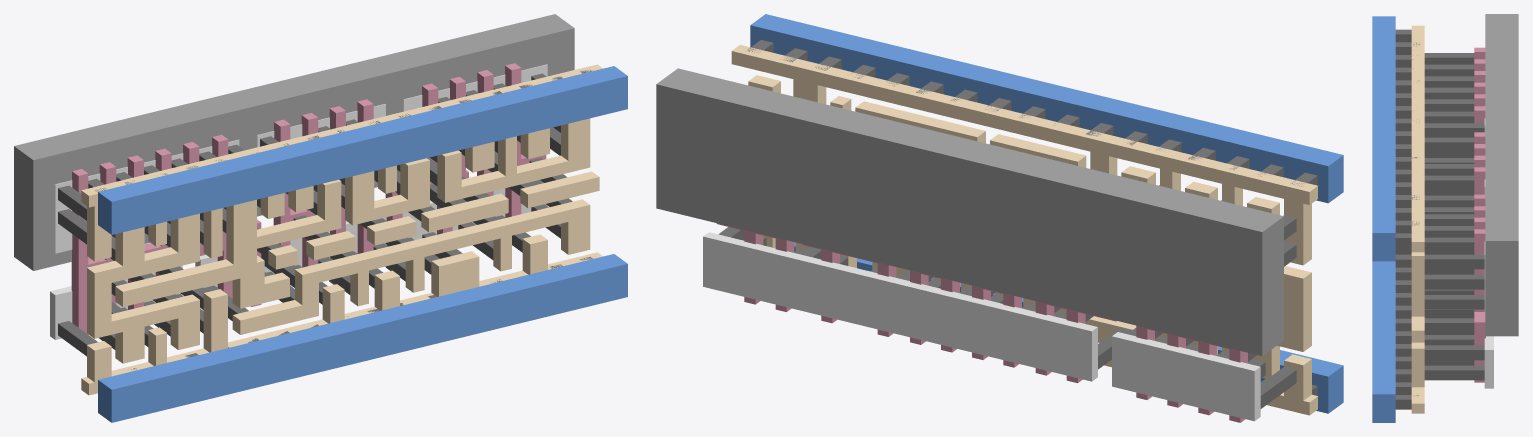
File: sky130_fd_sc_hd__o41a_4.gds.gltf
3 renders of one model, left to right at view 1: azimuth 30°, elevation 25°; view 2: azimuth 150°, elevation 25°; view 3: azimuth 270°, elevation 25°, orthographic. The views are drawn at different scales.
Parts seen in each view (by area): view 1: sky130_fd_sc_hd__o41a_4_li1, sky130_fd_sc_hd__o41a_4_met1, sky130_fd_sc_hd__o41a_4_nwell, sky130_fd_sc_hd__o41a_4_licon, sky130_fd_sc_hd__o41a_4_poly, sky130_fd_sc_hd__o41a_4_diff, sky130_fd_sc_hd__o41a_4_mcon; view 2: sky130_fd_sc_hd__o41a_4_nwell, sky130_fd_sc_hd__o41a_4_diff, sky130_fd_sc_hd__o41a_4_li1, sky130_fd_sc_hd__o41a_4_met1, sky130_fd_sc_hd__o41a_4_poly, sky130_fd_sc_hd__o41a_4_mcon, sky130_fd_sc_hd__o41a_4_licon; view 3: sky130_fd_sc_hd__o41a_4_licon, sky130_fd_sc_hd__o41a_4_nwell, sky130_fd_sc_hd__o41a_4_met1, sky130_fd_sc_hd__o41a_4_mcon, sky130_fd_sc_hd__o41a_4_li1, sky130_fd_sc_hd__o41a_4_poly, sky130_fd_sc_hd__o41a_4_diff.
Part boxes in pixels (x1,y1,x2,y2): sky130_fd_sc_hd__o41a_4_li1: (81,64,602,395); sky130_fd_sc_hd__o41a_4_met1: (98,66,627,422); sky130_fd_sc_hd__o41a_4_nwell: (14,14,574,270); sky130_fd_sc_hd__o41a_4_licon: (58,73,572,356); sky130_fd_sc_hd__o41a_4_poly: (71,63,546,334); sky130_fd_sc_hd__o41a_4_diff: (50,64,547,339); sky130_fd_sc_hd__o41a_4_mcon: (95,70,593,369); sky130_fd_sc_hd__o41a_4_nwell: (656,68,1283,356); sky130_fd_sc_hd__o41a_4_diff: (703,232,1260,421); sky130_fd_sc_hd__o41a_4_li1: (731,44,1317,415); sky130_fd_sc_hd__o41a_4_met1: (750,14,1343,413); sky130_fd_sc_hd__o41a_4_poly: (716,223,1247,422); sky130_fd_sc_hd__o41a_4_mcon: (746,40,1317,395); sky130_fd_sc_hd__o41a_4_licon: (718,160,1296,408); sky130_fd_sc_hd__o41a_4_licon: (1424,53,1484,380); sky130_fd_sc_hd__o41a_4_nwell: (1485,14,1518,336); sky130_fd_sc_hd__o41a_4_met1: (1372,16,1395,422); sky130_fd_sc_hd__o41a_4_mcon: (1395,29,1419,409); sky130_fd_sc_hd__o41a_4_li1: (1411,25,1424,413); sky130_fd_sc_hd__o41a_4_poly: (1474,47,1485,382); sky130_fd_sc_hd__o41a_4_diff: (1484,118,1493,388).
Size of the model in its own units: 8.2 by 3.2 by 2.24.
